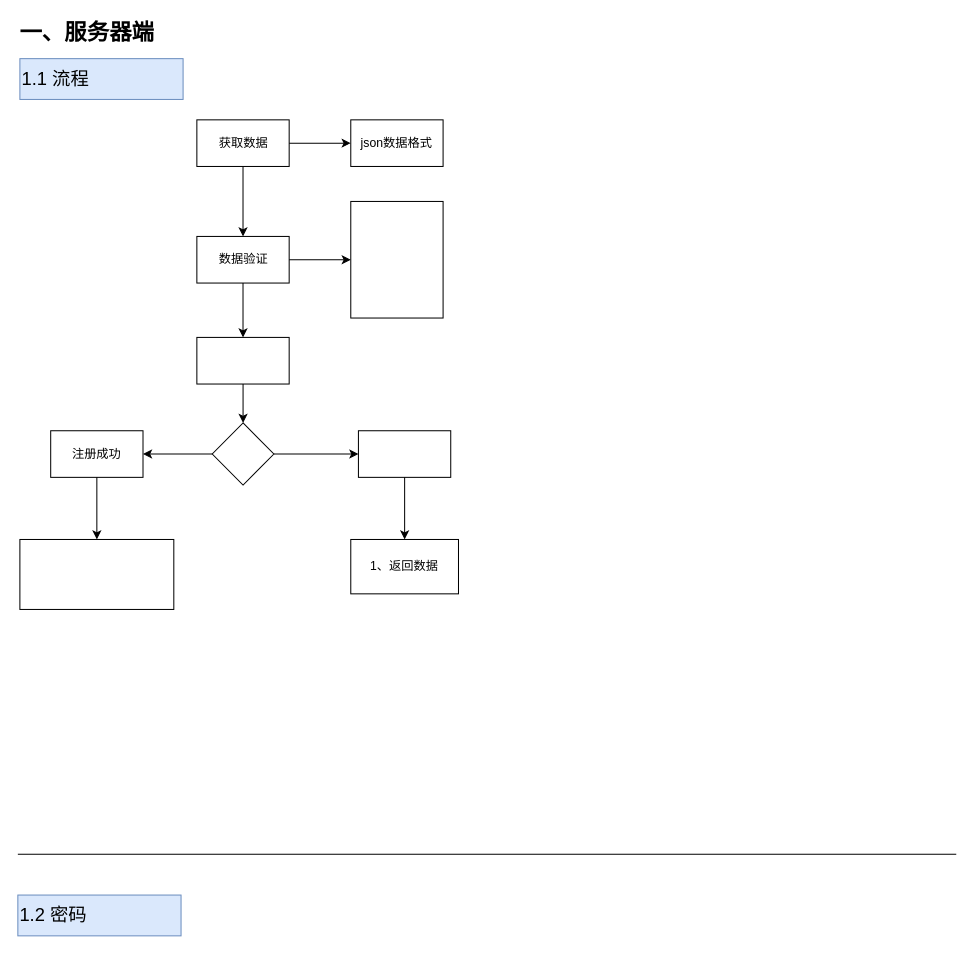
The diagram is 975 pixels wide and 954 high, and some of its shapes have lost their labels. Each missing label, with the box of its shape:
1、设置cookie 2、返回数据: (19, 538, 174, 609)
1、验证码 2、账号 3、密码: (350, 200, 443, 318)
注册: (196, 336, 289, 384)
注册失败: (357, 430, 451, 477)
